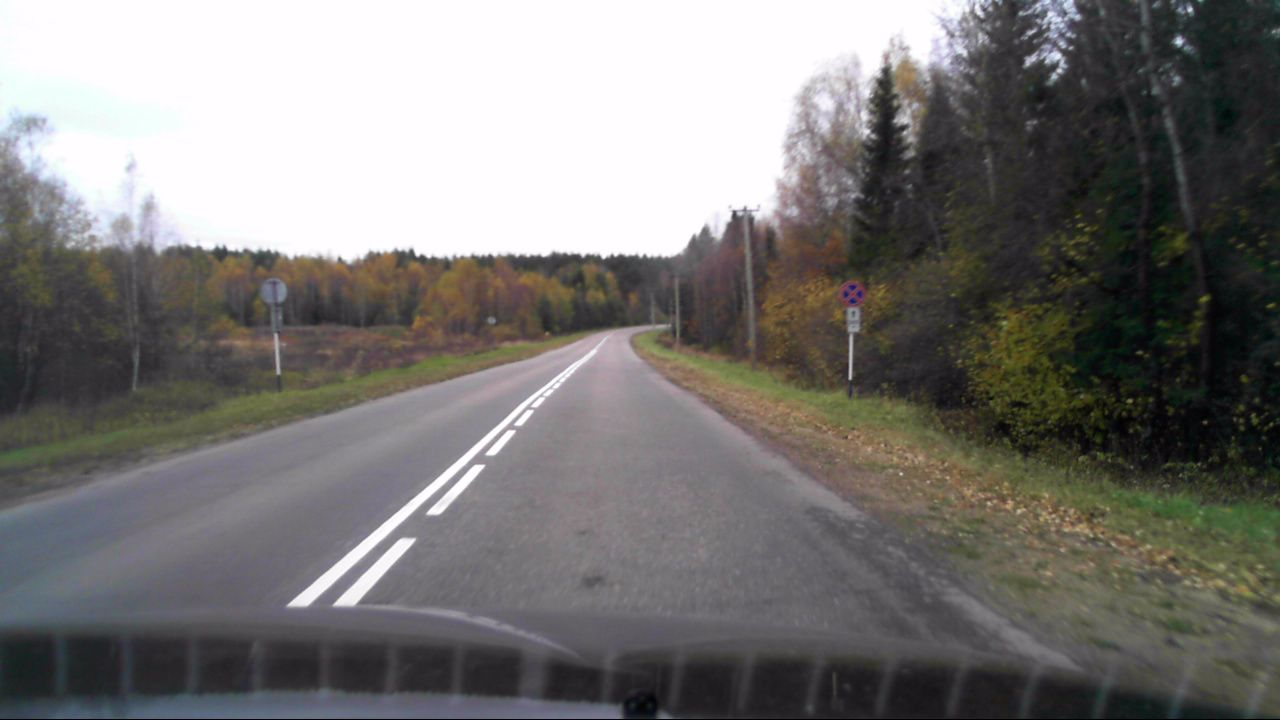No Parking: (841, 280, 867, 306)
